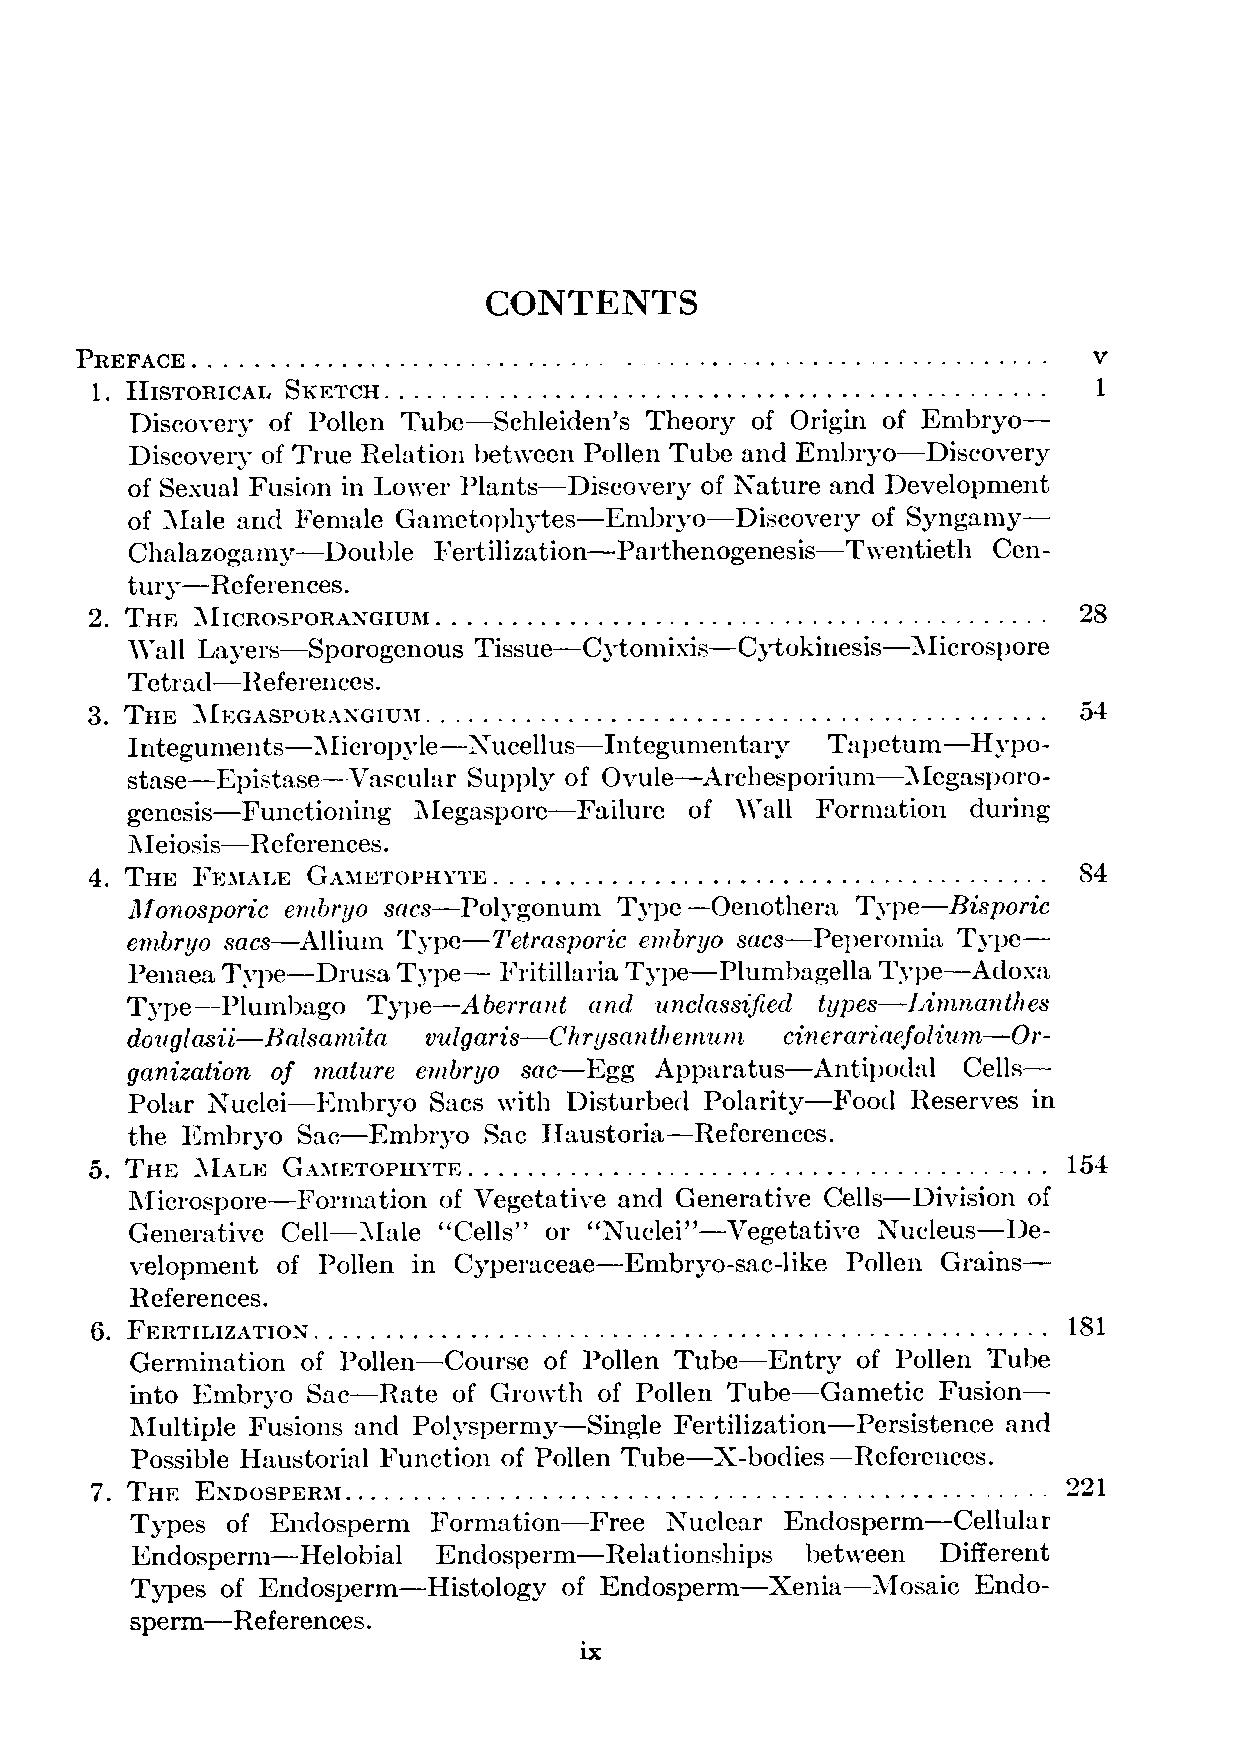TOC_chapter: (85, 863, 1053, 1153), (90, 378, 1057, 600), (87, 1476, 1052, 1637), (83, 701, 1052, 858), (87, 1314, 1053, 1469), (86, 1155, 1053, 1310), (85, 605, 1057, 692), (72, 344, 185, 372)
TOC_pagenumber: (1066, 1314, 1107, 1339), (1066, 1153, 1108, 1177), (1062, 1475, 1107, 1496), (1074, 600, 1107, 625), (1075, 860, 1108, 886), (1078, 701, 1107, 722), (1086, 377, 1108, 401), (1086, 346, 1108, 370)
chapter: (480, 285, 698, 319)
content_pagenumber: (577, 1639, 603, 1665)
